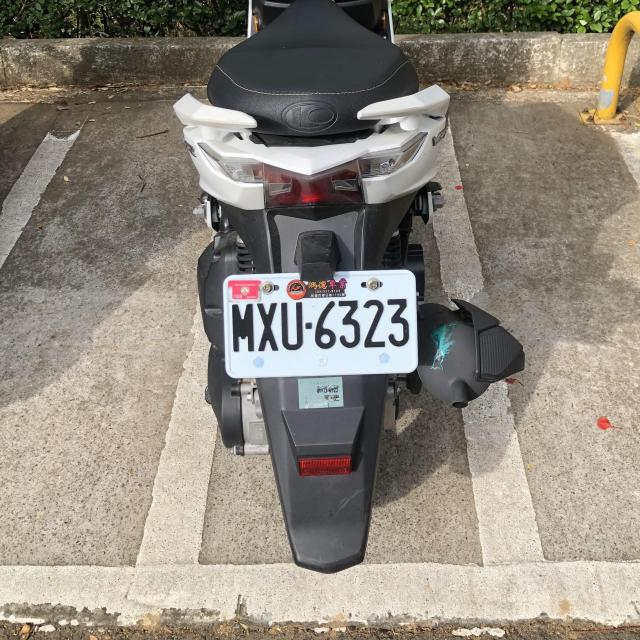W: (221, 268, 417, 378)
